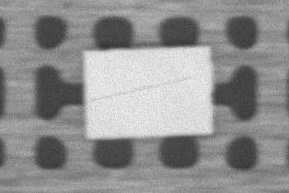DIE_CRACK: (138, 52, 285, 67)
